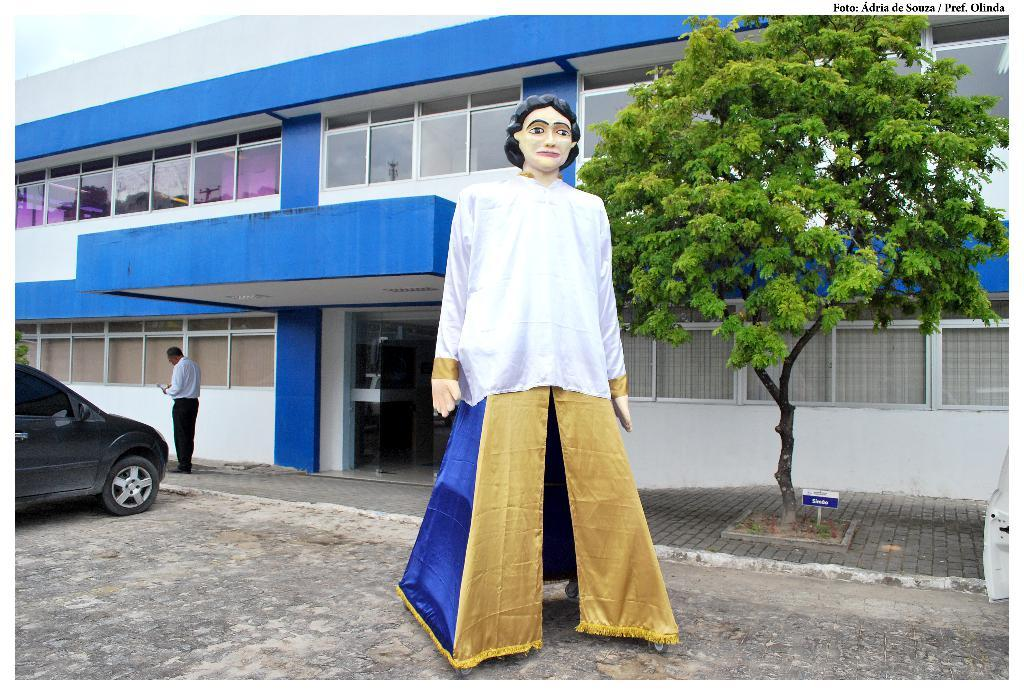Car: (15, 360, 173, 514)
